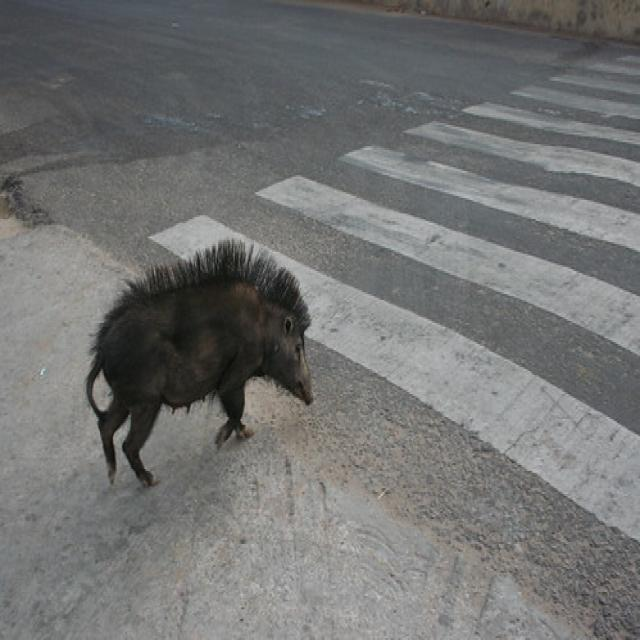boar: (42, 203, 346, 518)
